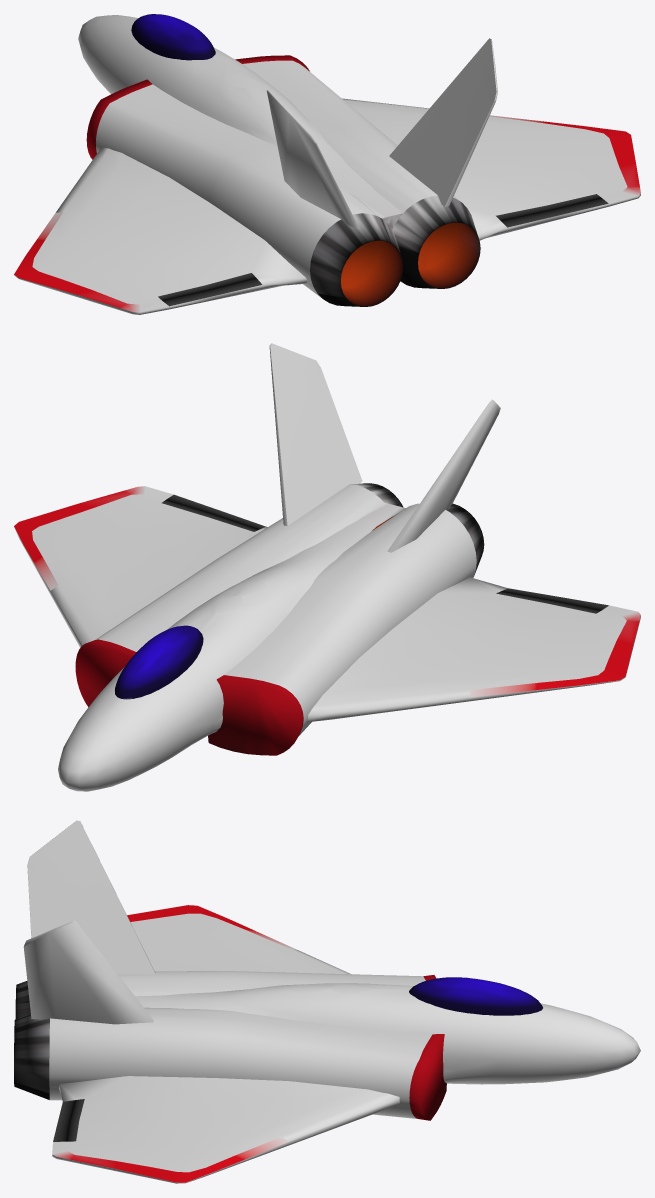
Rendered from ship.dae.
The picture shows the model from 3 angles, top to bottom: view 1: azimuth 30°, elevation 25°; view 2: azimuth 150°, elevation 25°; view 3: azimuth 270°, elevation 25°; orthographic projection. The views are drawn at different scales.
Parts seen in each view (by area): view 1: Aircraft; view 2: Aircraft; view 3: Aircraft.
Boxes of the visible parts, x1,y1,x2,y2 form: Aircraft: (14, 14, 640, 314); Aircraft: (14, 343, 640, 791); Aircraft: (14, 820, 640, 1183).
Bounding box in the file's own units: 48.96 × 46.78 × 17.12.
